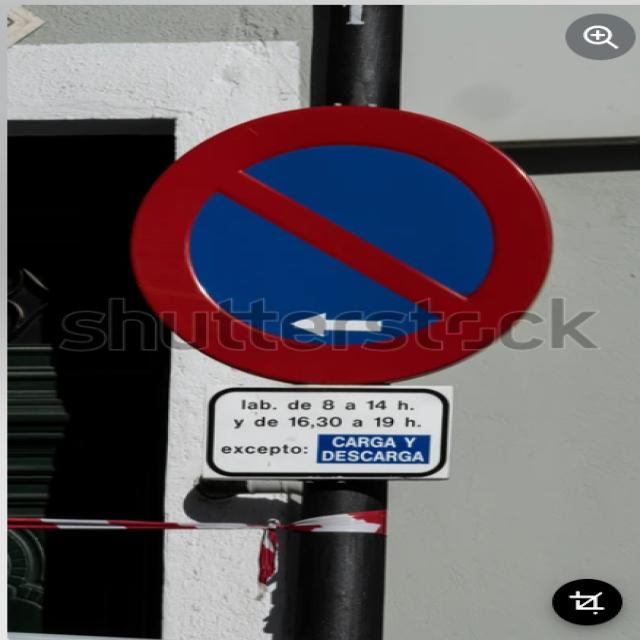forb_stopping: (128, 104, 551, 384)
